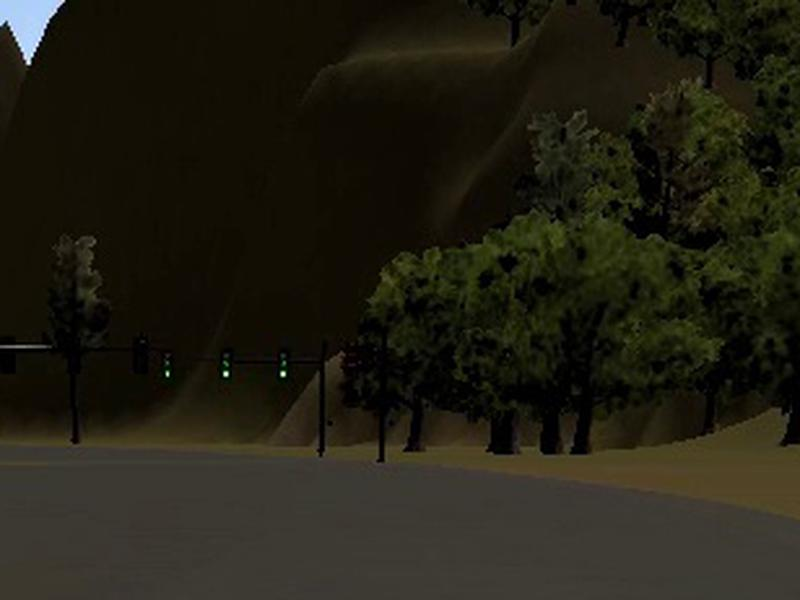Green: (276, 347, 290, 380), (219, 348, 233, 381), (161, 348, 172, 380)
